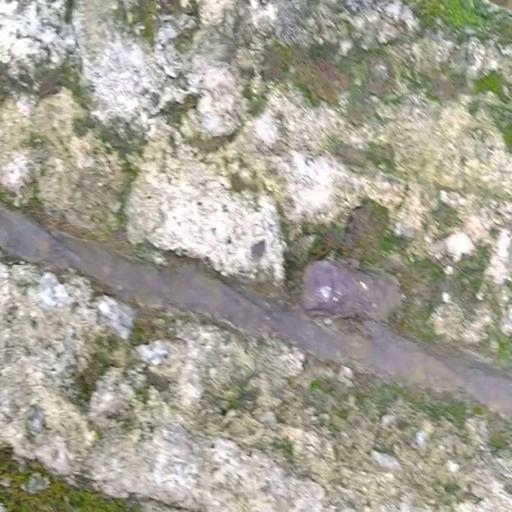spalling: (12, 1, 486, 512)
